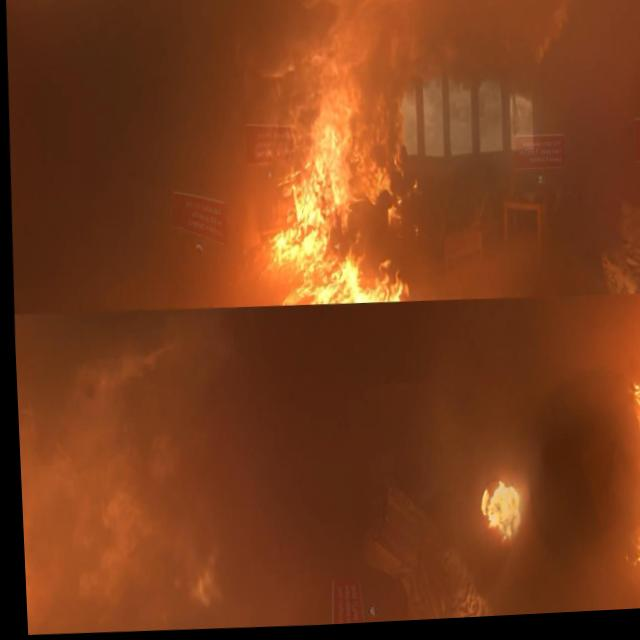fire: (252, 59, 410, 314), (618, 367, 640, 575), (473, 476, 517, 558)
